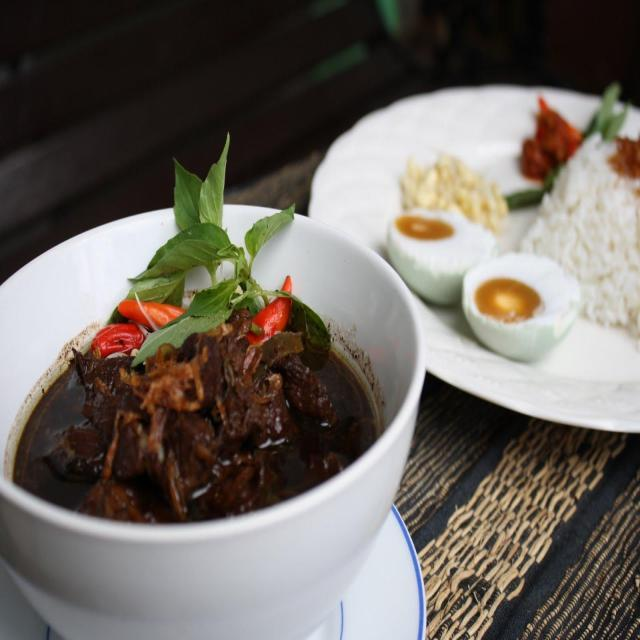Rawon: (7, 294, 381, 540)
